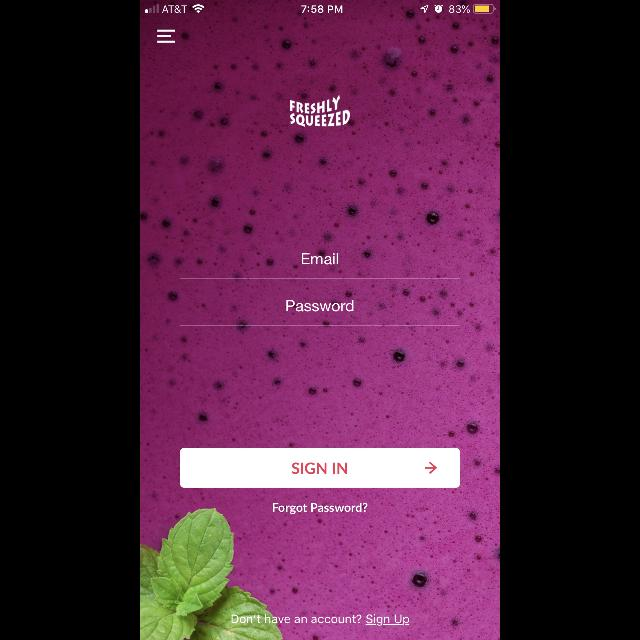backgroundimage: (140, 15, 500, 640)
icon: (158, 30, 175, 42), (425, 462, 437, 474)
image: (290, 94, 350, 128)
input: (180, 300, 460, 326), (180, 253, 460, 279)
text: (231, 614, 409, 626), (272, 502, 368, 514), (286, 300, 354, 312), (302, 253, 338, 265)
textbutton: (180, 448, 460, 488)
uppertaskbar: (140, 0, 500, 14)
